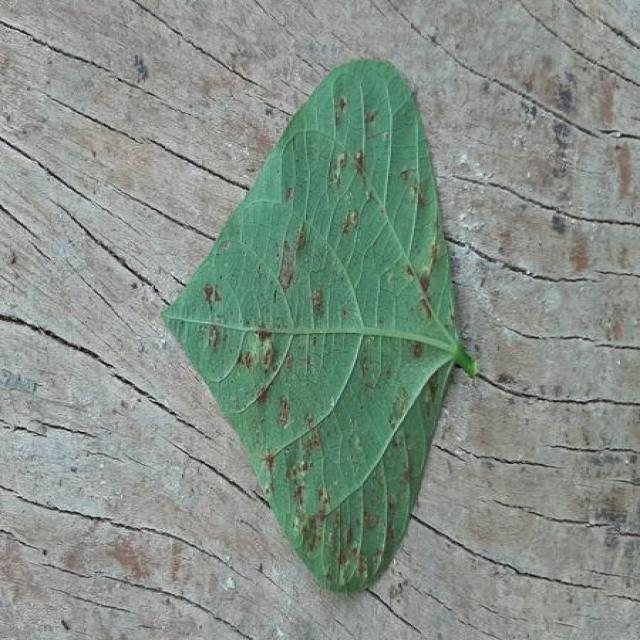beans: (163, 60, 477, 592)
defectedbeans: (163, 89, 367, 511), (273, 445, 422, 592)
